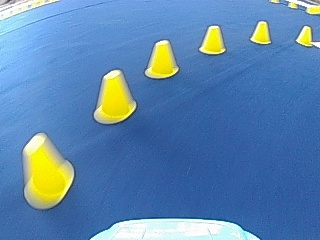cone: (20, 133, 73, 208), (93, 69, 137, 124), (144, 39, 179, 79), (198, 24, 227, 55), (250, 20, 271, 44), (295, 25, 312, 46)
